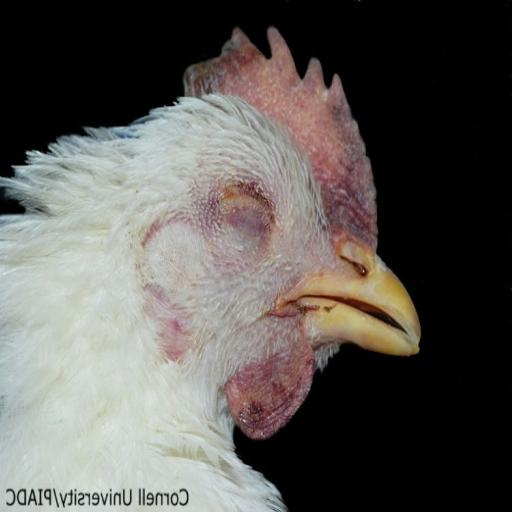disease: (207, 147, 290, 251), (184, 22, 266, 101), (230, 362, 310, 439)
